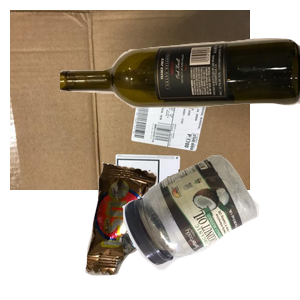cardboard: (10, 10, 250, 190)
glass: (60, 36, 300, 147)
plastic: (120, 152, 300, 300)
trash: (83, 160, 233, 300)
